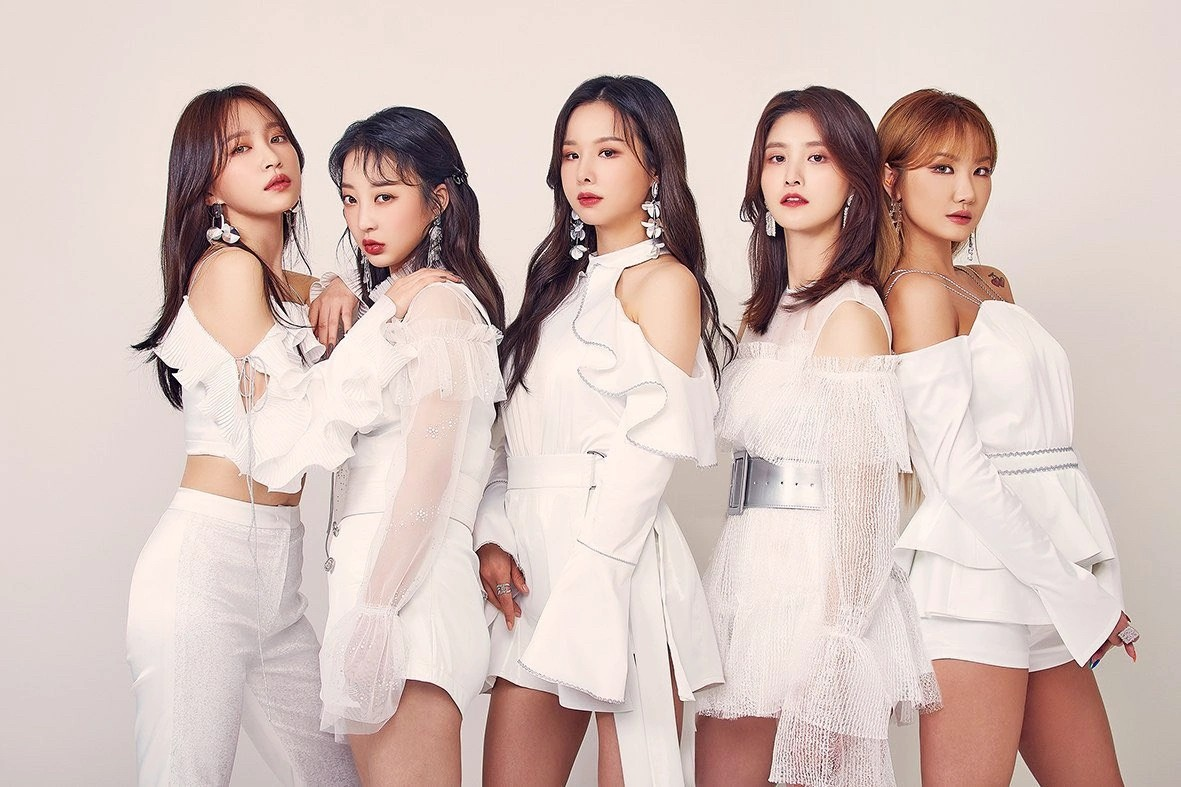people: (875, 79, 1103, 787), (506, 72, 701, 787), (141, 87, 338, 784), (320, 107, 486, 787), (725, 89, 881, 787)
